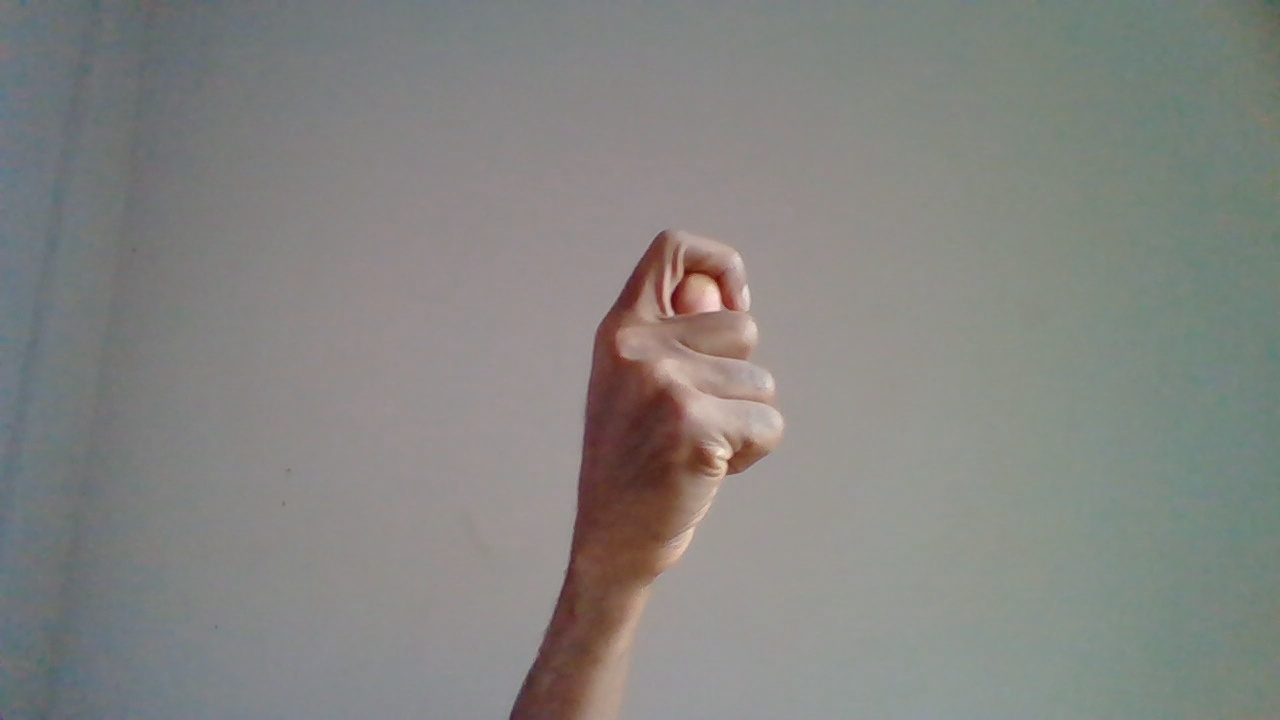che: (568, 229, 788, 683)
